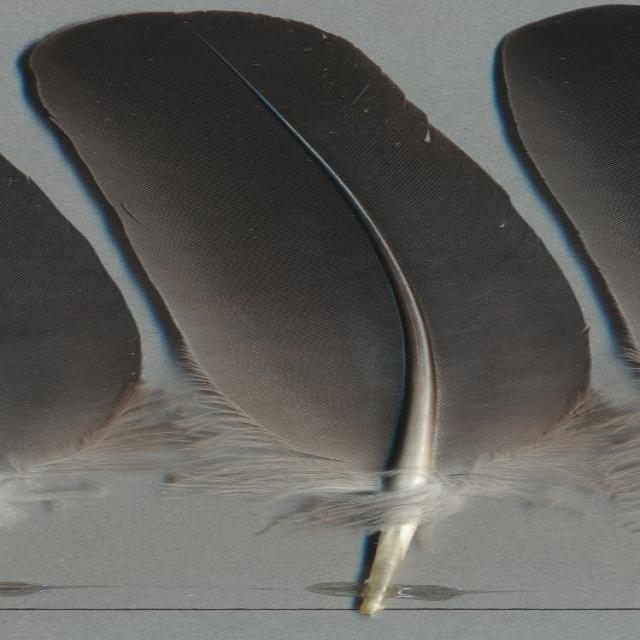feather: (30, 8, 640, 622)
